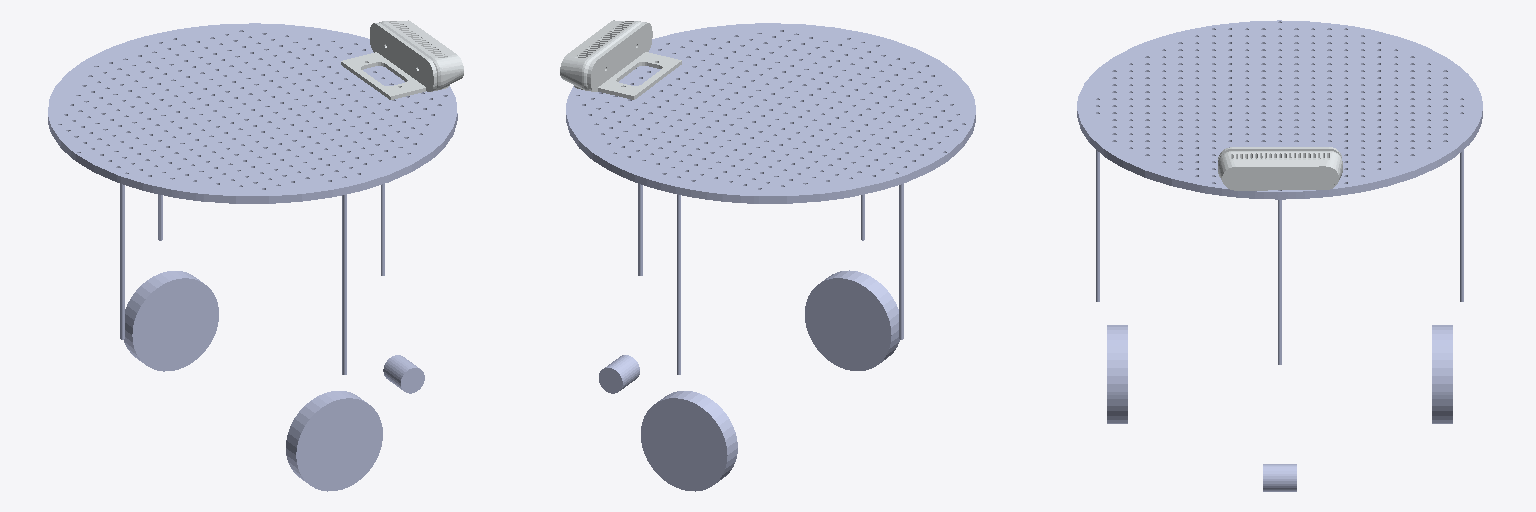
The robot description file, URDF, robot "ors_robot":
<?xml version="1.0" encoding="utf-8"?>
<!-- This URDF was automatically created by SolidWorks to URDF Exporter! Originally created by [author] ([email redacted]) 
     Commit Version: 1.6.0-4-g7f85cfe  Build Version: 1.6.7995.38578
     For more information, please see http://wiki.ros.org/sw_urdf_exporter -->
<robot
  name="ors_robot">
  <link
    name="base_link">
    <inertial>
      <origin
        xyz="0.0375410289558811 -0.000428988568958566 0.0421956483515309"
        rpy="0 0 0" />
      <mass
        value="3.75941738254691" />
      <inertia
        ixx="0.0302625393343646"
        ixy="0.000494029605687653"
        ixz="0.000877895110474979"
        iyy="0.0183790893714639"
        iyz="3.90426116410347E-05"
        izz="0.0454611424589501" />
    </inertial>
    <visual>
      <origin
        xyz="0 0 0"
        rpy="0 0 0" />
      <geometry>
        <mesh
          filename="package://ors_robot/meshes/base_link.STL" />
      </geometry>
      <material
        name="">
        <color
          rgba="0.964705882352941 0.964705882352941 0.952941176470588 1" />
      </material>
    </visual>
    <collision>
      <origin
        xyz="0 0 0"
        rpy="0 0 0" />
      <geometry>
        <mesh
          filename="package://ors_robot/meshes/base_link.STL" />
      </geometry>
    </collision>
  </link>
  <link
    name="left_wheel">
    <inertial>
      <origin
        xyz="3.51874085424697E-12 1.11144426995224E-12 1.99507077525141E-13"
        rpy="0 0 0" />
      <mass
        value="0.0610725611857856" />
      <inertia
        ixx="2.0932620346428E-05"
        ixy="4.70726299862862E-31"
        ixz="-2.66341320047295E-16"
        iyy="2.0932620346428E-05"
        iyz="-8.67742268246757E-21"
        izz="3.95750196483891E-05" />
    </inertial>
    <visual>
      <origin
        xyz="0 0 0"
        rpy="0 0 0" />
      <geometry>
        <mesh
          filename="package://ors_robot/meshes/left_wheel.STL" />
      </geometry>
      <material
        name="">
        <color
          rgba="0.792156862745098 0.819607843137255 0.933333333333333 1" />
      </material>
    </visual>
    <collision>
      <origin
        xyz="0 0 0"
        rpy="0 0 0" />
      <geometry>
        <mesh
          filename="package://ors_robot/meshes/left_wheel.STL" />
      </geometry>
    </collision>
  </link>
  <joint
    name="left_wheel"
    type="continuous">
    <origin
      xyz="-0.0129112176850158 -0.117664217504032 0.025328779706945"
      rpy="-1.5707963267949 0 0" />
    <parent
      link="base_link" />
    <child
      link="left_wheel" />
    <axis
      xyz="0 0 -1" />
    <limit
      effort="10"
      velocity="10" />
    <dynamics
      damping="0.1"
      friction="0.1" />
  </joint>
  <link
    name="right_wheel">
    <inertial>
      <origin
        xyz="1.58206781009085E-13 1.11127773649855E-12 1.99618099827603E-13"
        rpy="0 0 0" />
      <mass
        value="0.0610725611857856" />
      <inertia
        ixx="2.0932620346428E-05"
        ixy="3.70181437751706E-31"
        ixz="-2.66341411820888E-16"
        iyy="2.0932620346428E-05"
        iyz="-8.74736255787152E-21"
        izz="3.95750196483891E-05" />
    </inertial>
    <visual>
      <origin
        xyz="0 0 0"
        rpy="0 0 0" />
      <geometry>
        <mesh
          filename="package://ors_robot/meshes/right_wheel.STL" />
      </geometry>
      <material
        name="">
        <color
          rgba="0.792156862745098 0.819607843137255 0.933333333333333 1" />
      </material>
    </visual>
    <collision>
      <origin
        xyz="0 0 0"
        rpy="0 0 0" />
      <geometry>
        <mesh
          filename="package://ors_robot/meshes/right_wheel.STL" />
      </geometry>
    </collision>
  </link>
  <joint
    name="right_wheel"
    type="continuous">
    <origin
      xyz="-0.0129112176873895 0.117549999993357 0.025328779706945"
      rpy="-1.5707963267949 0 0" />
    <parent
      link="base_link" />
    <child
      link="right_wheel" />
    <axis
      xyz="0 0 1" />
    <limit
      effort="10"
      velocity="10" />
    <dynamics
      damping="0.1"
      friction="0.1" />
  </joint>
  <link
    name="front_wheel">
    <inertial>
      <origin
        xyz="1.76092473935796E-12 1.50951473543159E-12 1.99518179755387E-12"
        rpy="0 0 0" />
      <mass
        value="0.00785398163397449" />
      <inertia
        ixx="6.05411084285534E-07"
        ixy="4.0573618672563E-33"
        ixz="3.03941757673171E-18"
        iyy="6.05411084285534E-07"
        iyz="-1.54167304373854E-22"
        izz="3.92699081698725E-07" />
    </inertial>
    <visual>
      <origin
        xyz="0 0 0"
        rpy="0 0 0" />
      <geometry>
        <mesh
          filename="package://ors_robot/meshes/front_wheel.STL" />
      </geometry>
      <material
        name="">
        <color
          rgba="0.792156862745098 0.819607843137255 0.933333333333333 1" />
      </material>
    </visual>
    <collision>
      <origin
        xyz="0 0 0"
        rpy="0 0 0" />
      <geometry>
        <mesh
          filename="package://ors_robot/meshes/front_wheel.STL" />
      </geometry>
    </collision>
  </link>
  <joint
    name="front_wheel"
    type="continuous">
    <origin
      xyz="0.112773589774212 5.4823545785343E-05 0.00132877970694717"
      rpy="-1.5707963267949 0 0" />
    <parent
      link="base_link" />
    <child
      link="front_wheel" />
    <axis
      xyz="0 0 -1" />
    <limit
      effort="10"
      velocity="10" />
    <dynamics
      damping="0"
      friction="0" />
  </joint>
  <link
    name="plate">
    <inertial>
      <origin
        xyz="8.77742323268649E-13 -4.02533781196368E-07 -0.00402127109268191"
        rpy="0 0 0" />
      <mass
        value="0.391942695372502" />
      <inertia
        ixx="0.002124680445083"
        ixy="3.21655738947554E-16"
        ixz="-3.65115980107875E-17"
        iyy="0.00211257768873928"
        iyz="-1.8488967635126E-23"
        izz="0.00421569304990099" />
    </inertial>
    <visual>
      <origin
        xyz="0 0 0"
        rpy="0 0 0" />
      <geometry>
        <mesh
          filename="package://ors_robot/meshes/plate.STL" />
      </geometry>
      <material
        name="">
        <color
          rgba="0.792156862745098 0.819607843137255 0.933333333333333 1" />
      </material>
    </visual>
    <collision>
      <origin
        xyz="0 0 0"
        rpy="0 0 0" />
      <geometry>
        <mesh
          filename="package://ors_robot/meshes/plate.STL" />
      </geometry>
    </collision>
  </link>
  <joint
    name="plate"
    type="fixed">
    <origin
      xyz="-0.0127165282933757 3.07436914599446E-05 0.239828779706945"
      rpy="0 0 0" />
    <parent
      link="base_link" />
    <child
      link="plate" />
    <axis
      xyz="0 0 0" />
  </joint>
  <link
    name="M2M2_LIDAR">
    <inertial>
      <origin
        xyz="0.000544180788152326 -0.000121760206787558 -0.0676836000482276"
        rpy="0 0 0" />
      <mass
        value="0.144547687439008" />
      <inertia
        ixx="0.000167357888369665"
        ixy="7.58898386397937E-10"
        ixz="1.54108302065642E-08"
        iyy="0.000166948275602806"
        iyz="4.60881838904236E-08"
        izz="0.000189951798778922" />
    </inertial>
    <visual>
      <origin
        xyz="0 0 0"
        rpy="0 0 0" />
      <geometry>
        <mesh
          filename="package://ors_robot/meshes/M2M2_LIDAR.STL" />
      </geometry>
      <material
        name="">
        <color
          rgba="0.792156862745098 0.819607843137255 0.933333333333333 1" />
      </material>
    </visual>
    <collision>
      <origin
        xyz="0 0 0"
        rpy="0 0 0" />
      <geometry>
        <mesh
          filename="package://ors_robot/meshes/M2M2_LIDAR.STL" />
      </geometry>
    </collision>
  </link>
  <joint
    name="M2M2_LIDAR"
    type="fixed">
    <origin
      xyz="0.011257243470593 -5.35218498943779E-05 0.1054"
      rpy="0 0 0" />
    <parent
      link="plate" />
    <child
      link="M2M2_LIDAR" />
    <axis
      xyz="0 0 0" />
  </joint>
  <link
    name="depth_cam">
    <inertial>
      <origin
        xyz="-0.0131202485719072 -0.00185694854136453 -0.000475155115603476"
        rpy="0 0 0" />
      <mass
        value="0.118265203799494" />
      <inertia
        ixx="7.81722838749596E-05"
        ixy="7.60380877739042E-07"
        ixz="-3.98560089919681E-07"
        iyy="9.42229928199424E-06"
        iyz="-4.76491397960946E-09"
        izz="7.76440264747213E-05" />
    </inertial>
    <visual>
      <origin
        xyz="0 0 0"
        rpy="0 0 0" />
      <geometry>
        <mesh
          filename="package://ors_robot/meshes/depth_cam.STL" />
      </geometry>
      <material
        name="">
        <color
          rgba="0.898039215686275 0.917647058823529 0.929411764705882 1" />
      </material>
    </visual>
    <collision>
      <origin
        xyz="0 0 0"
        rpy="0 0 0" />
      <geometry>
        <mesh
          filename="package://ors_robot/meshes/depth_cam.STL" />
      </geometry>
    </collision>
  </link>
  <joint
    name="depth_cam"
    type="fixed">
    <origin
      xyz="0.149440914994276 0.00218526482966985 0.0123528880010465"
      rpy="0 0 0" />
    <parent
      link="plate" />
    <child
      link="depth_cam" />
    <axis
      xyz="0 0 0" />
  </joint>
</robot>

--- Facts derived from the render (not from the file) ---
3 views of the same robot in one strip: view 1: azimuth 30°, elevation 25°; view 2: azimuth 150°, elevation 25°; view 3: azimuth 270°, elevation 25° (orthographic).
Model ors_robot with 7 links and 6 joints (3 continuous, 3 fixed), rooted at base_link, posed all joints at 0.
Links seen in each view (by area): view 1: plate, left_wheel, right_wheel, depth_cam, front_wheel; view 2: plate, right_wheel, left_wheel, depth_cam, front_wheel; view 3: plate, depth_cam, left_wheel, right_wheel, front_wheel.
Boxes of the visible links, x1,y1,x2,y2 form: plate: (48,23,457,374); left_wheel: (286,391,382,491); right_wheel: (124,271,218,371); depth_cam: (341,20,463,99); front_wheel: (383,355,424,393); plate: (566,23,975,374); right_wheel: (641,391,737,491); left_wheel: (805,270,899,370); depth_cam: (560,20,681,99); front_wheel: (599,355,639,393); plate: (1077,20,1482,364); depth_cam: (1218,147,1342,190); left_wheel: (1107,325,1127,423); right_wheel: (1432,325,1452,423); front_wheel: (1263,464,1296,491).
Bounding box of the posed robot: 0.298 × 0.294 × 0.2755 m (x, y, z).
5 mesh visuals loaded from 7 distinct referenced files (5 binary STL); not drawn: 2 (file found but could not be loaded).